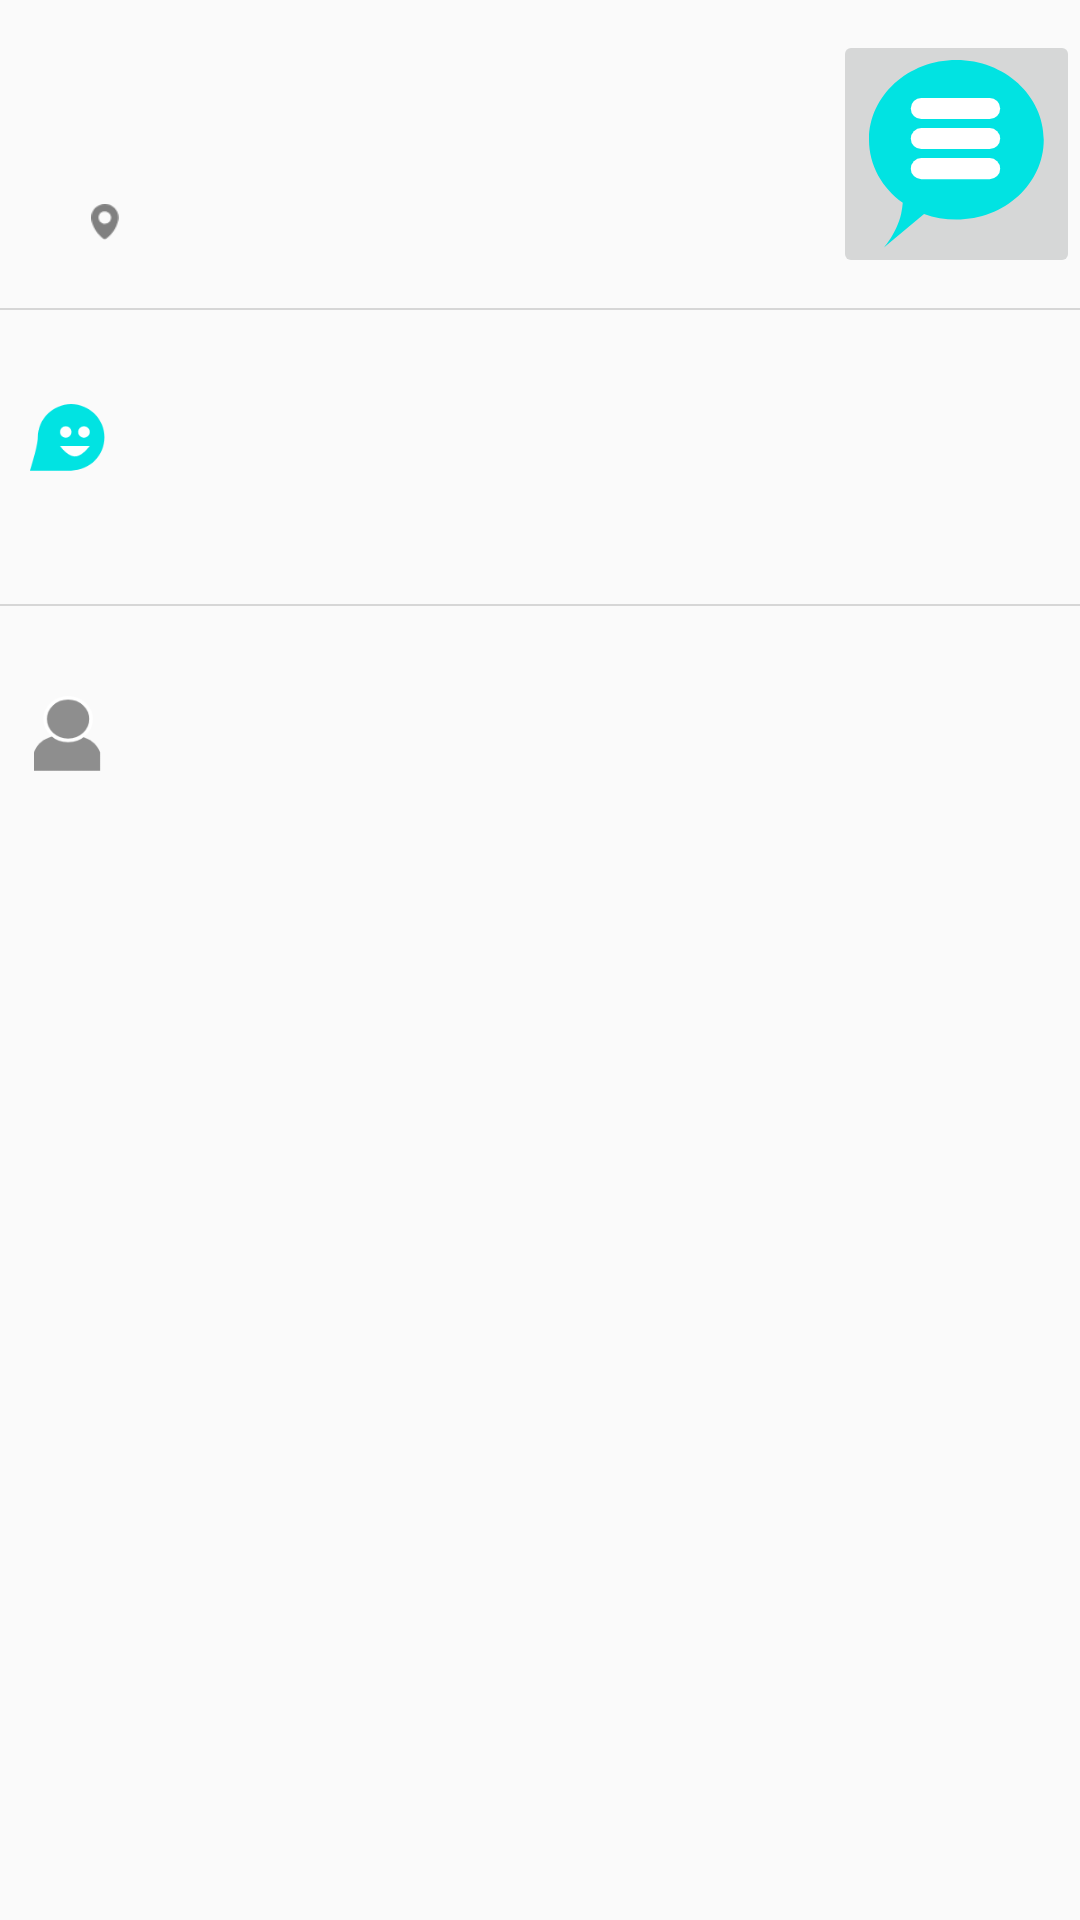

Icon click points for this 1080 × 1920 phone screenshot, format point (x, y):
map: point (105, 221)
profile: point (67, 735)
sendchat: point (956, 154)
whatup: point (67, 437)
